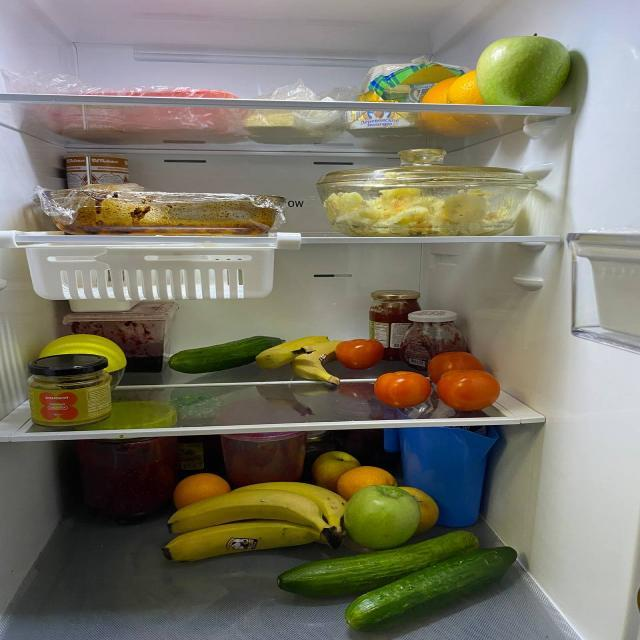Apple: (478, 38, 576, 107), (348, 488, 422, 543), (314, 451, 354, 488), (410, 491, 440, 528)
Banana: (174, 479, 356, 556), (269, 332, 339, 382)
Cucumber: (342, 537, 516, 626), (270, 531, 477, 591), (170, 337, 282, 370)
Orange: (178, 472, 224, 503), (341, 470, 391, 498), (446, 73, 484, 108), (419, 76, 457, 105)
Tomato: (441, 369, 503, 409), (380, 374, 430, 405), (332, 337, 382, 364), (429, 353, 482, 374)
